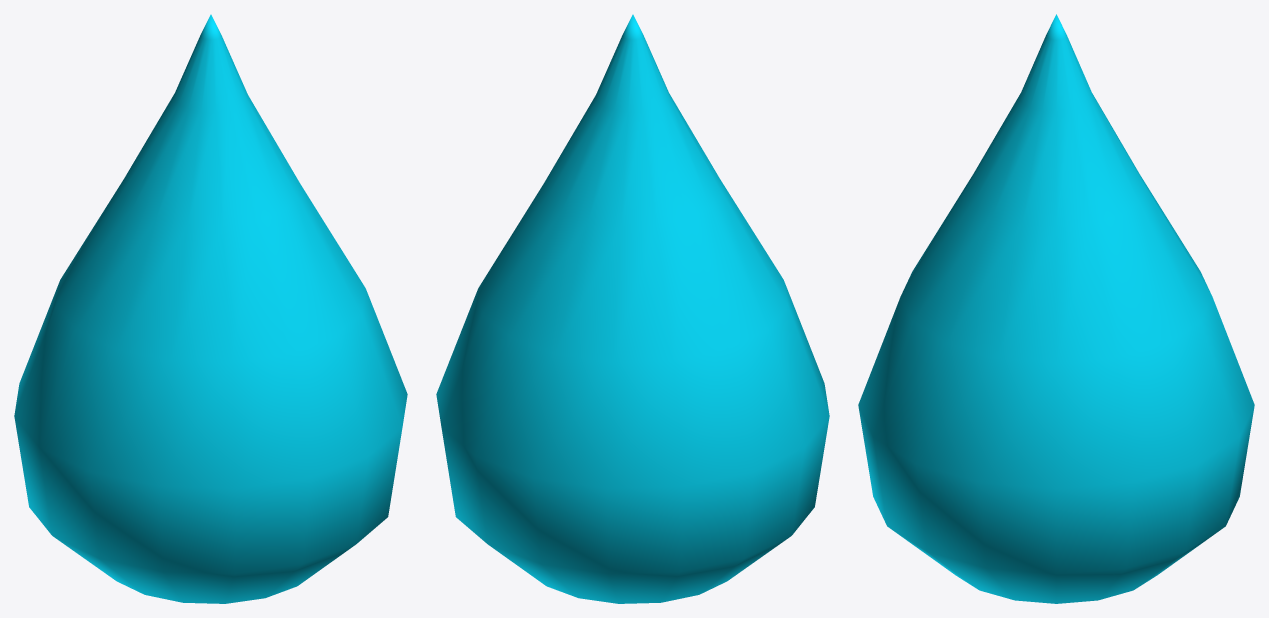
The model's file is drop.fbx.
3 renders of one model, left to right at view 1: azimuth 30°, elevation 25°; view 2: azimuth 150°, elevation 25°; view 3: azimuth 270°, elevation 25°, orthographic.
Parts seen in each view (by area): view 1: Sphere; view 2: Sphere; view 3: Sphere.
Part boxes in pixels (x1,y1,x2,y2): Sphere: (14, 14, 407, 603); Sphere: (436, 14, 829, 603); Sphere: (858, 14, 1254, 603).
Bounding box in the file's own units: 127 × 200 × 127.
